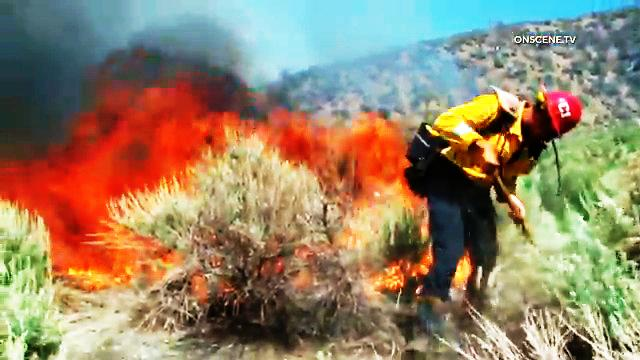fire: (17, 53, 221, 279), (328, 95, 395, 189)
